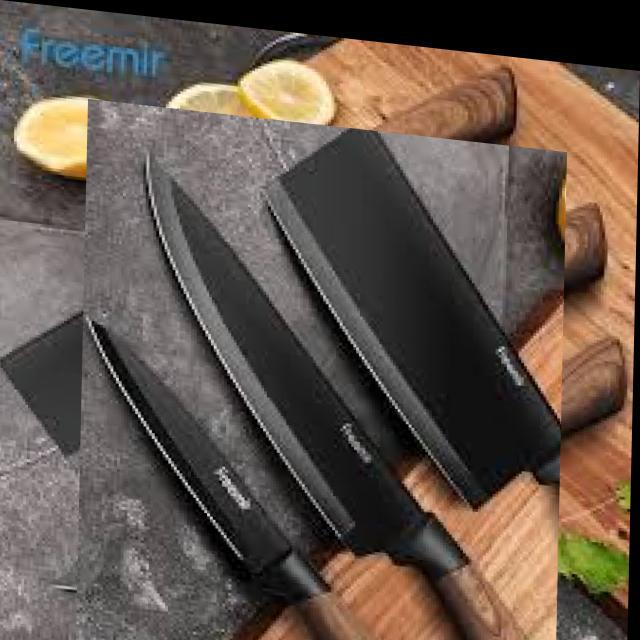knife: (143, 149, 526, 640), (264, 129, 564, 510), (84, 312, 349, 640)
